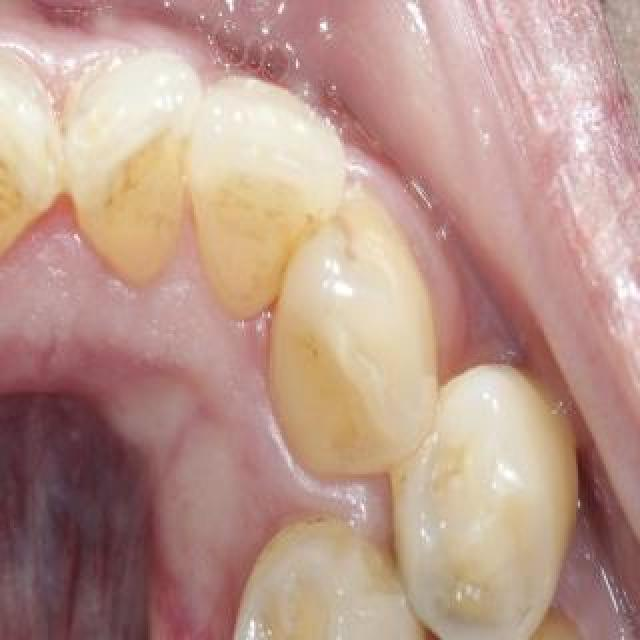maligned: (364, 380, 610, 640), (194, 480, 440, 640), (59, 36, 187, 278), (0, 26, 68, 248)
